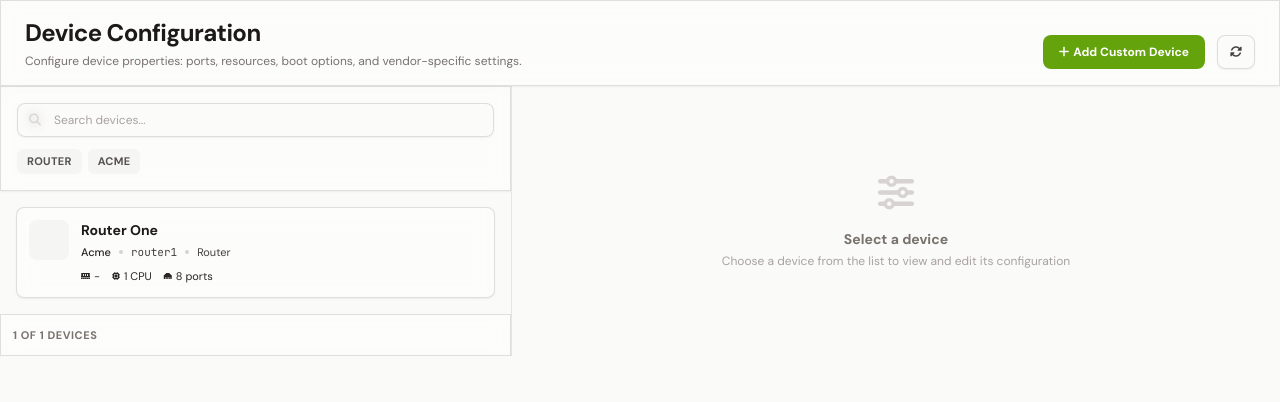
it: DeviceConfigManager › shows empty state when all devices are filtered out
Type "nonexistent" into the field with placeholder "Search devices...".
click(256, 120); type("nonexistent")  # box [17, 103, 494, 137]
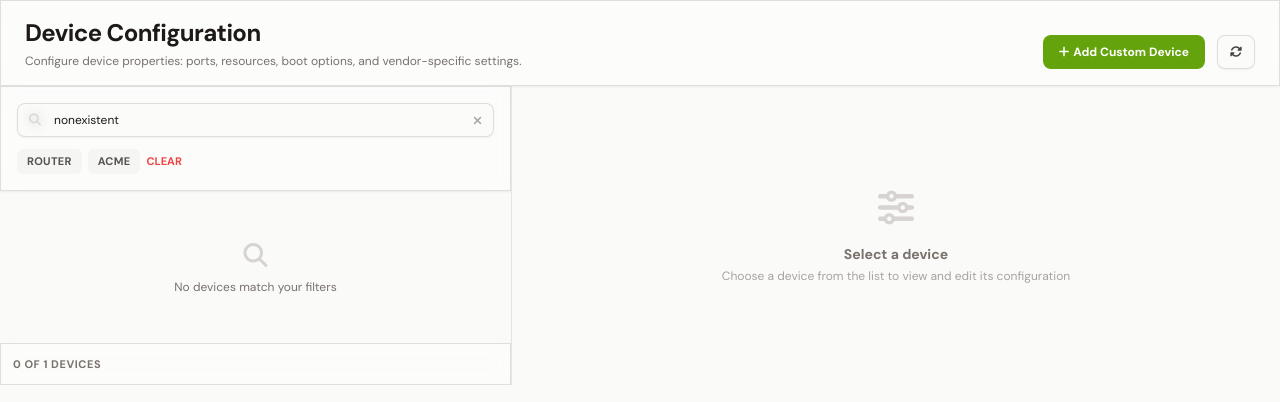
expect the text "No devices match your filters" is shown: met, box [174, 278, 337, 294]
